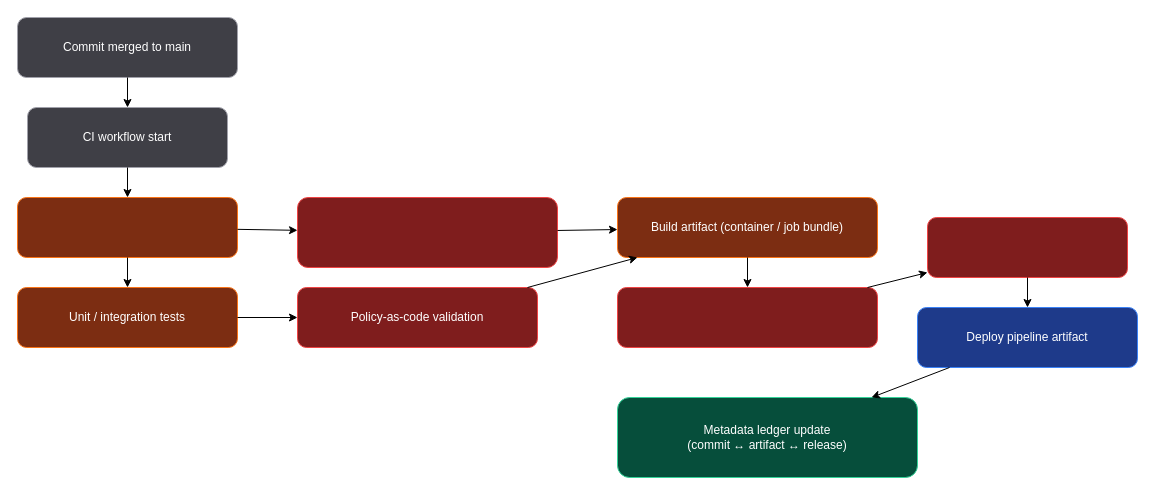
Some shapes in this 1155 by 495 pixel diagram are drawn without their labels. Here are the shapes that lost their labels. From the top down, the centre of each, then its label:
(127,227): Build + lint checks
(427,232): Security scans (SAST / dependency)
(1027,247): Release tag created
(747,317): Artifact signing + provenance
